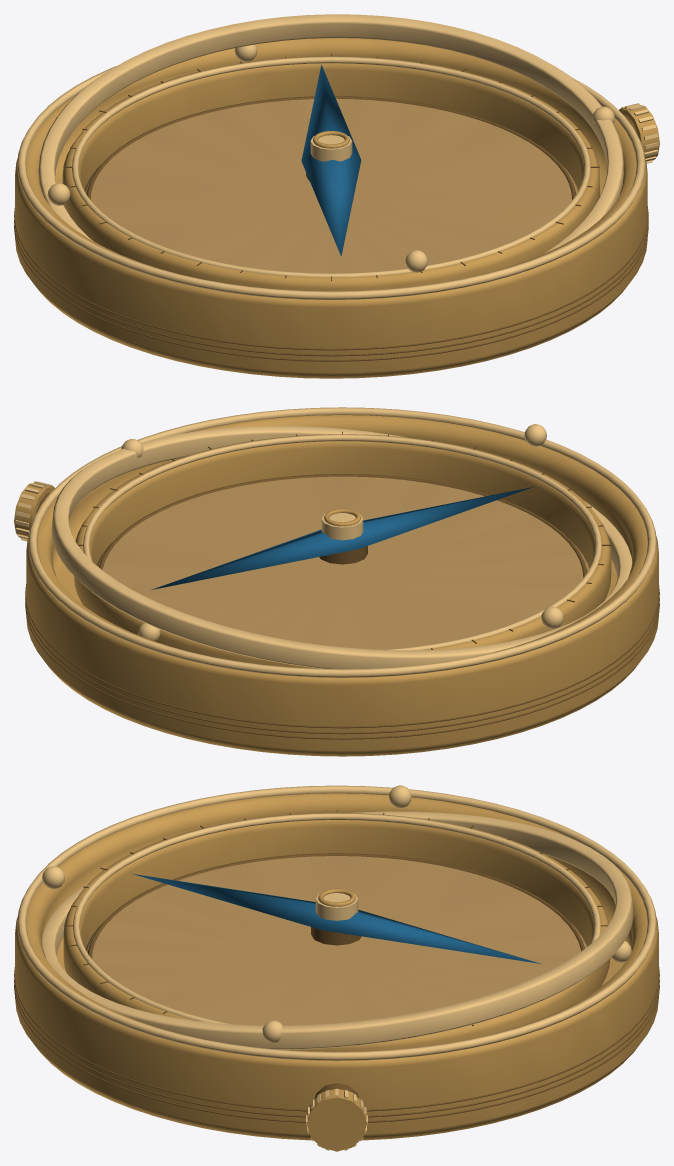
Rendered from compass.glb.
3 views of the same model, one above another, from view 1: azimuth 30°, elevation 25°; view 2: azimuth 150°, elevation 25°; view 3: azimuth 270°, elevation 25° (orthographic).
Parts seen in each view (by area): view 1: chapter-1; view 2: chapter-1; view 3: chapter-1.
Boxes of the visible parts, <box> form: chapter-1: <box>14,14,659,378</box>; chapter-1: <box>14,407,659,756</box>; chapter-1: <box>14,785,659,1151</box>.
Bounding box in the file's own units: 2 × 0.3763 × 1.87.
